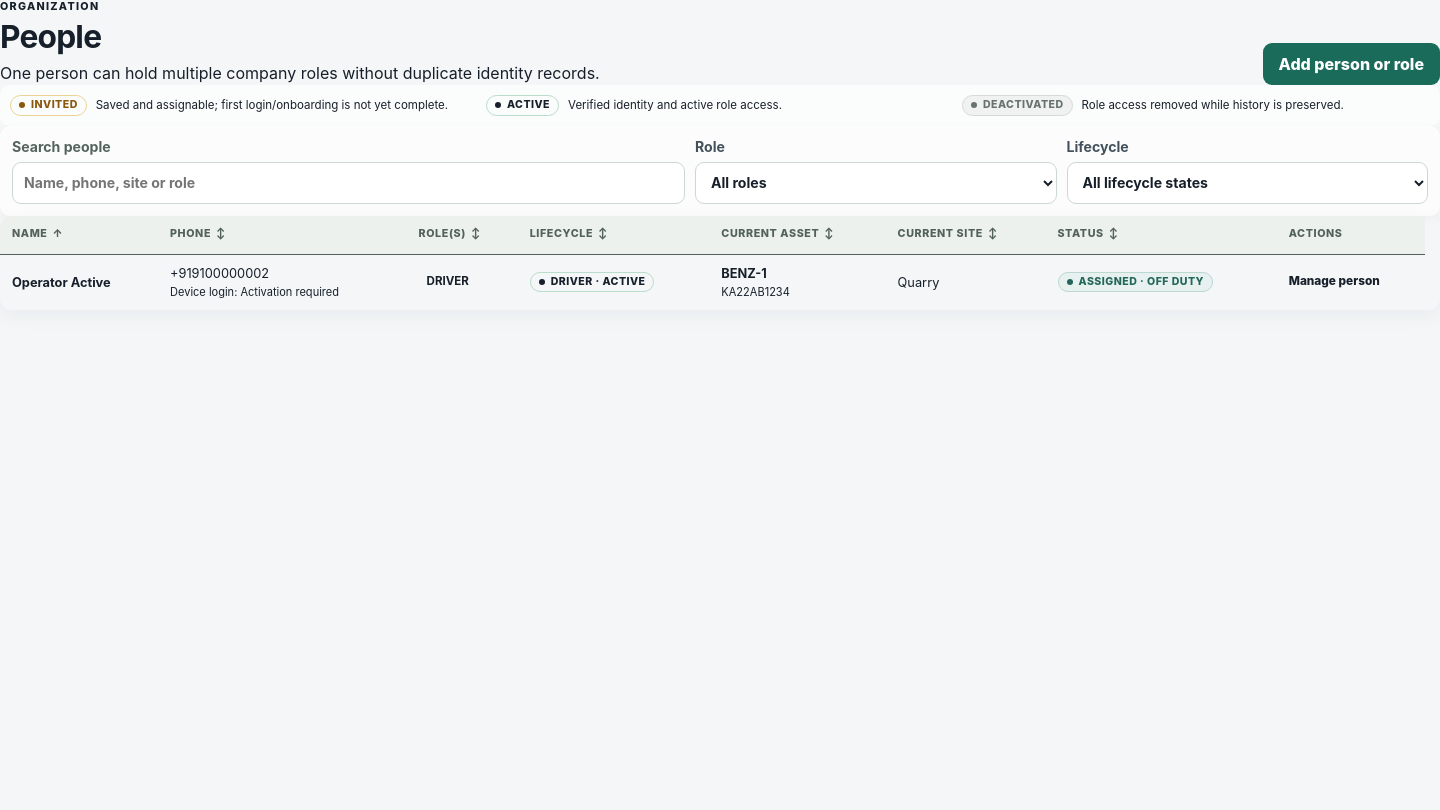
it: Owner management panels › generates and resets a one-time device activation code
The image size is (1440, 810).
Click the button "Manage person". click: click(1334, 282)
box: [1289,268,1380,296]
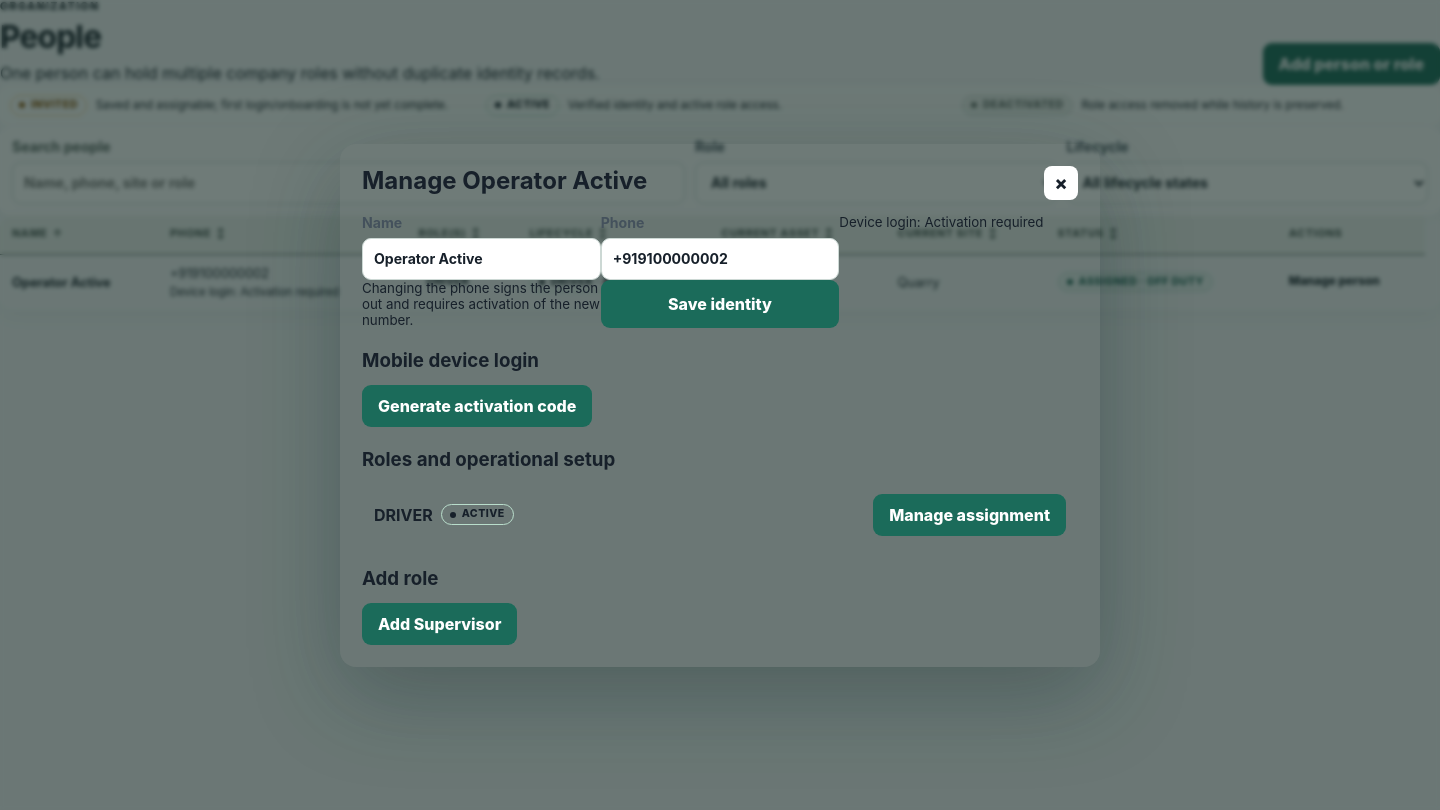
Click the button "Generate activation code". click: click(477, 406)
box: [362,384,592,426]
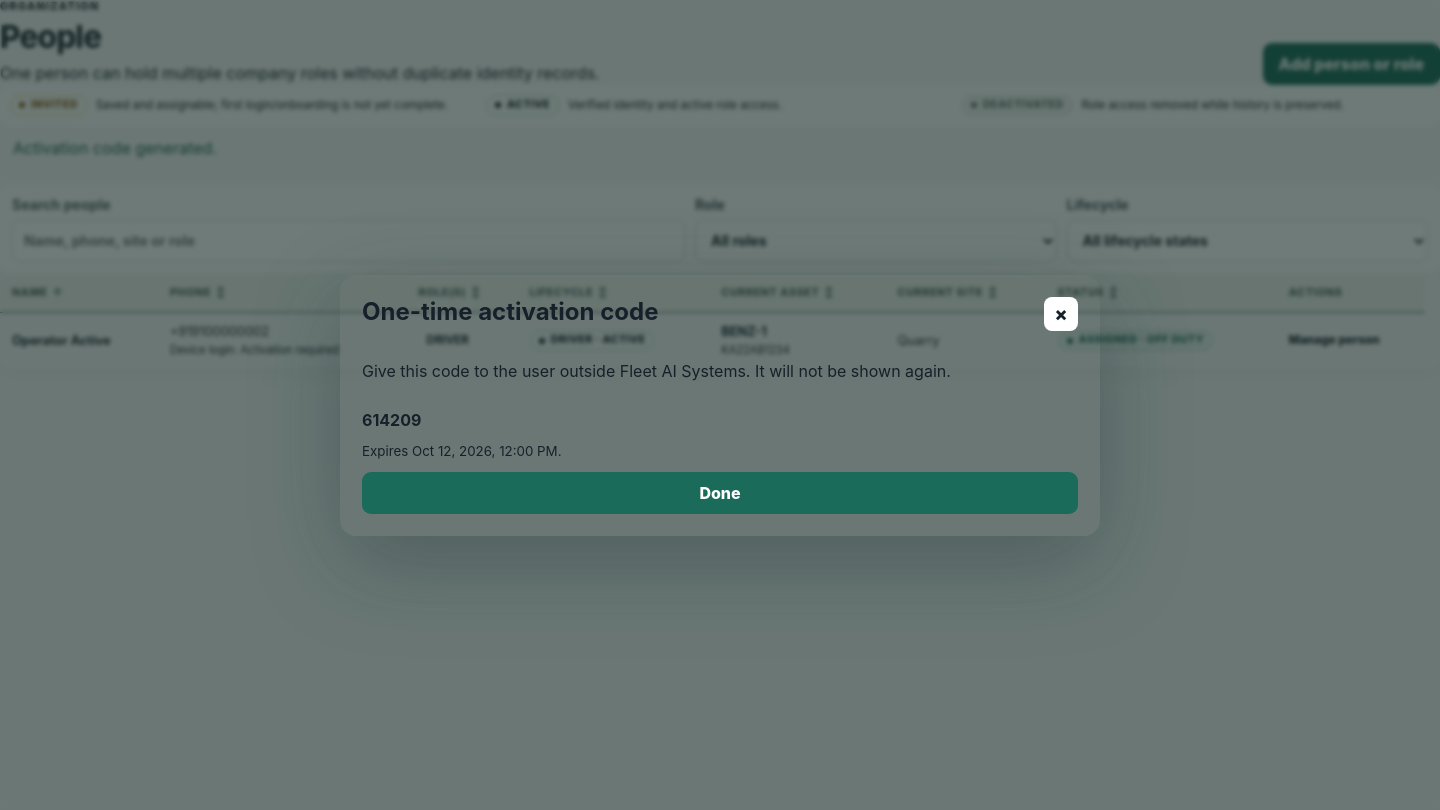
Now the text named "Activation code" reads "614209", box [362,410,421,430]
Now the text "It will not be shown again." is shown, box [362,360,951,380]
